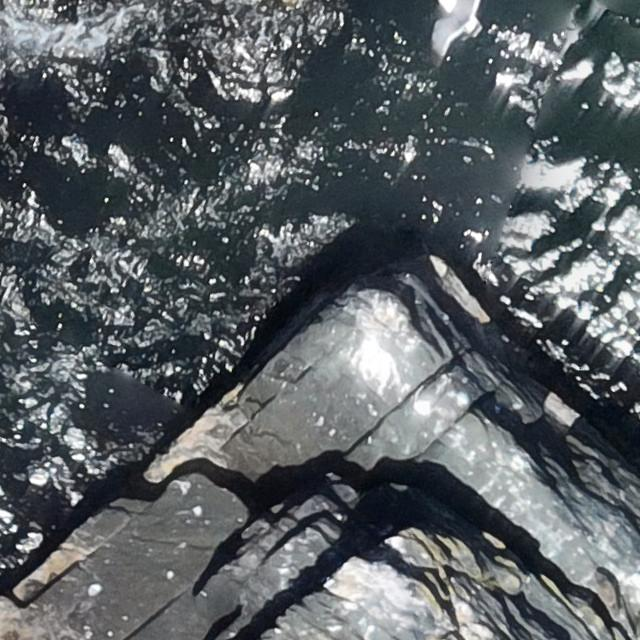F: (427, 0, 485, 61)
